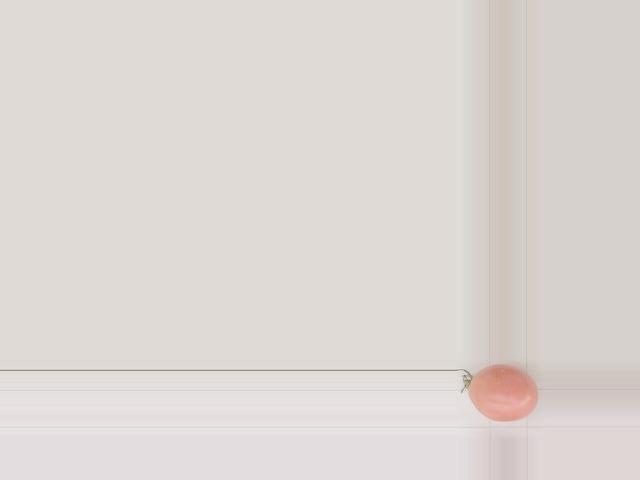tomato: (467, 364, 538, 421)
